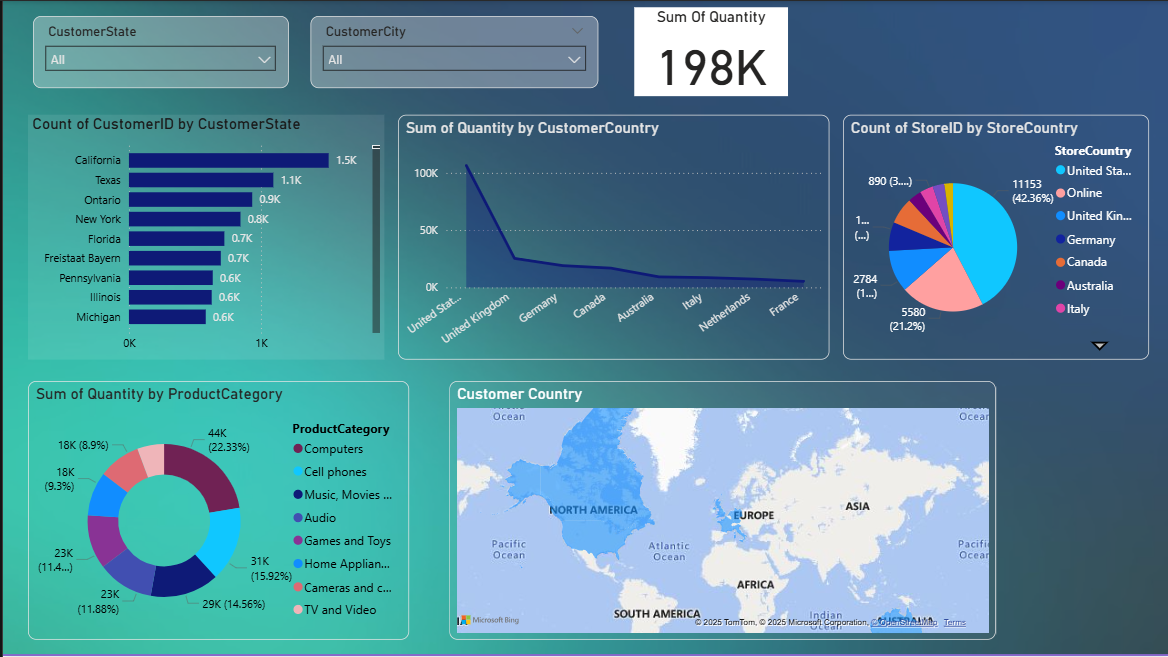

What the dashboard file says about the page in this screenshot:
{"tool":"powerbi","page":{"name":"Page 1","canvas":[1280,720],"ordinal":0},"visuals":[{"type":"slicer","fields":{"Values":["Customers.CustomerCity"]},"box":[337.6,16.8,315.8,79],"z":0},{"type":"slicer","fields":{"Values":["Customers.CustomerState"]},"box":[33.6,16.8,280.5,79],"z":1000},{"type":"barChart","fields":{"Category":["Customers.CustomerState"],"Y":["CountNonNull(Orders.CustomerID)"]},"box":[26.9,124.3,391.4,268.8],"z":2000},{"type":"donutChart","fields":{"Category":["Product Category.ProductCategory"],"Y":["Sum(Order Line Item.Quantity)"]},"box":[26.9,416.6,418.3,283.9],"z":3000},{"type":"areaChart","fields":{"Y":["Sum(Order Line Item.Quantity)"],"Category":["Customers.CustomerCountry"]},"box":[433.4,124.3,473.7,268.8],"z":4000},{"type":"filledMap","title":"Customer Country","fields":{"Category":["Customers.CustomerCountry"]},"box":[490.5,416.6,599.7,283.9],"z":5000},{"type":"pieChart","fields":{"Category":["Store.StoreCountry"],"Y":["CountNonNull(Orders.StoreID)"]},"box":[922.2,124.3,336,268.8],"z":6000},{"type":"card","title":"Sum Of Quantity","fields":{"Values":["Sum(Order Line Item.Quantity)"]},"box":[693,6.9,168.8,97.4],"z":7000}]}

Visuals, with their boxes in screenshot pixels (x1, y1, x2, y2), scaled from the page's 1280x720 canvas onto the 1168x657 screenshot:
slicer - Customers.CustomerCity: <bbox>308, 15, 596, 87</bbox>
slicer - Customers.CustomerState: <bbox>31, 15, 287, 87</bbox>
barChart - Customers.CustomerState x CountNonNull(Orders.CustomerID): <bbox>25, 113, 382, 359</bbox>
donutChart - Product Category.ProductCategory x Sum(Order Line Item.Quantity): <bbox>25, 380, 406, 639</bbox>
areaChart - Sum(Order Line Item.Quantity) x Customers.CustomerCountry: <bbox>395, 113, 828, 359</bbox>
"Customer Country" filledMap: <bbox>448, 380, 995, 639</bbox>
pieChart - Store.StoreCountry x CountNonNull(Orders.StoreID): <bbox>842, 113, 1148, 359</bbox>
"Sum Of Quantity" card: <bbox>632, 6, 786, 95</bbox>
